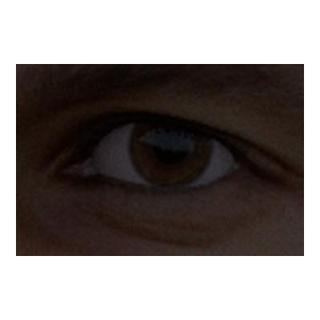pupil: (155, 131, 188, 164)
